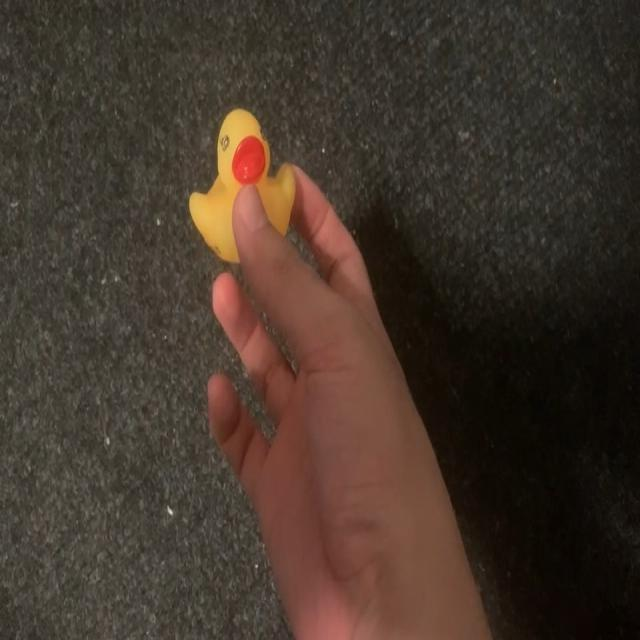rubber-duck: (188, 108, 293, 260)
